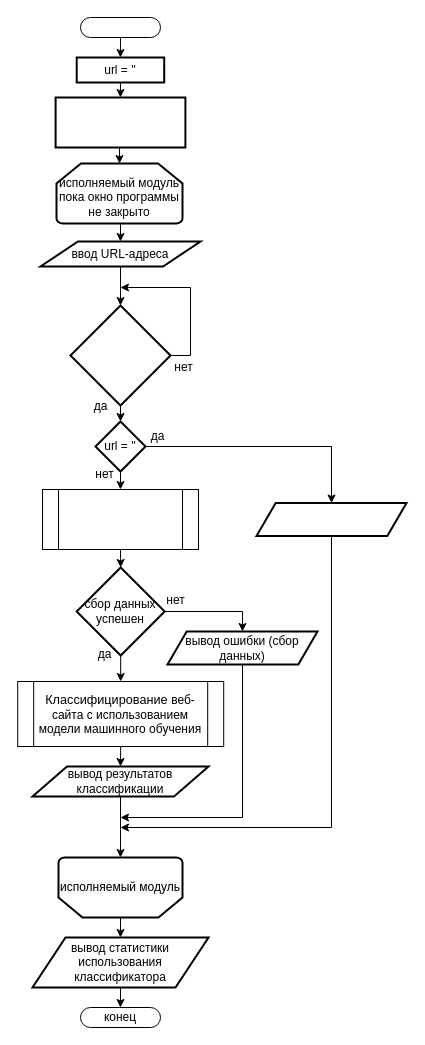
Image size: 425x1045. Some labels were removed from this diagram. The centre of each missing label's shape, as x and y in pixels:
"вывод ошибки (url-адрес не введен)" goes at pixel 331 519.
"извлечение статистических данных по веб-сайту" goes at pixel 120 519.
"инициализация модели машинного обучения" goes at pixel 120 122.
"нажата кнопка выполнения" goes at pixel 120 355.
"начало" goes at pixel 120 27.
